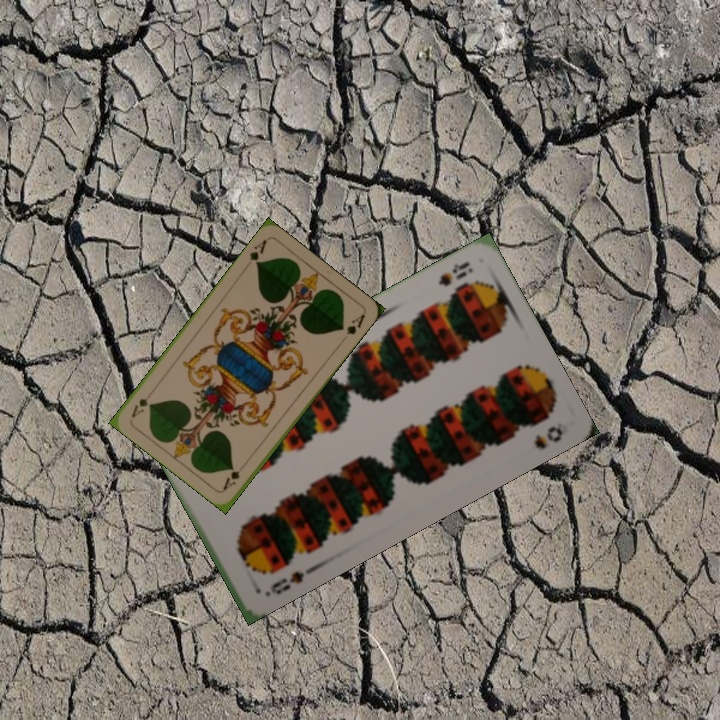GA: (219, 458, 249, 493), (245, 235, 270, 268)
S8: (433, 257, 476, 289), (266, 567, 307, 598)
